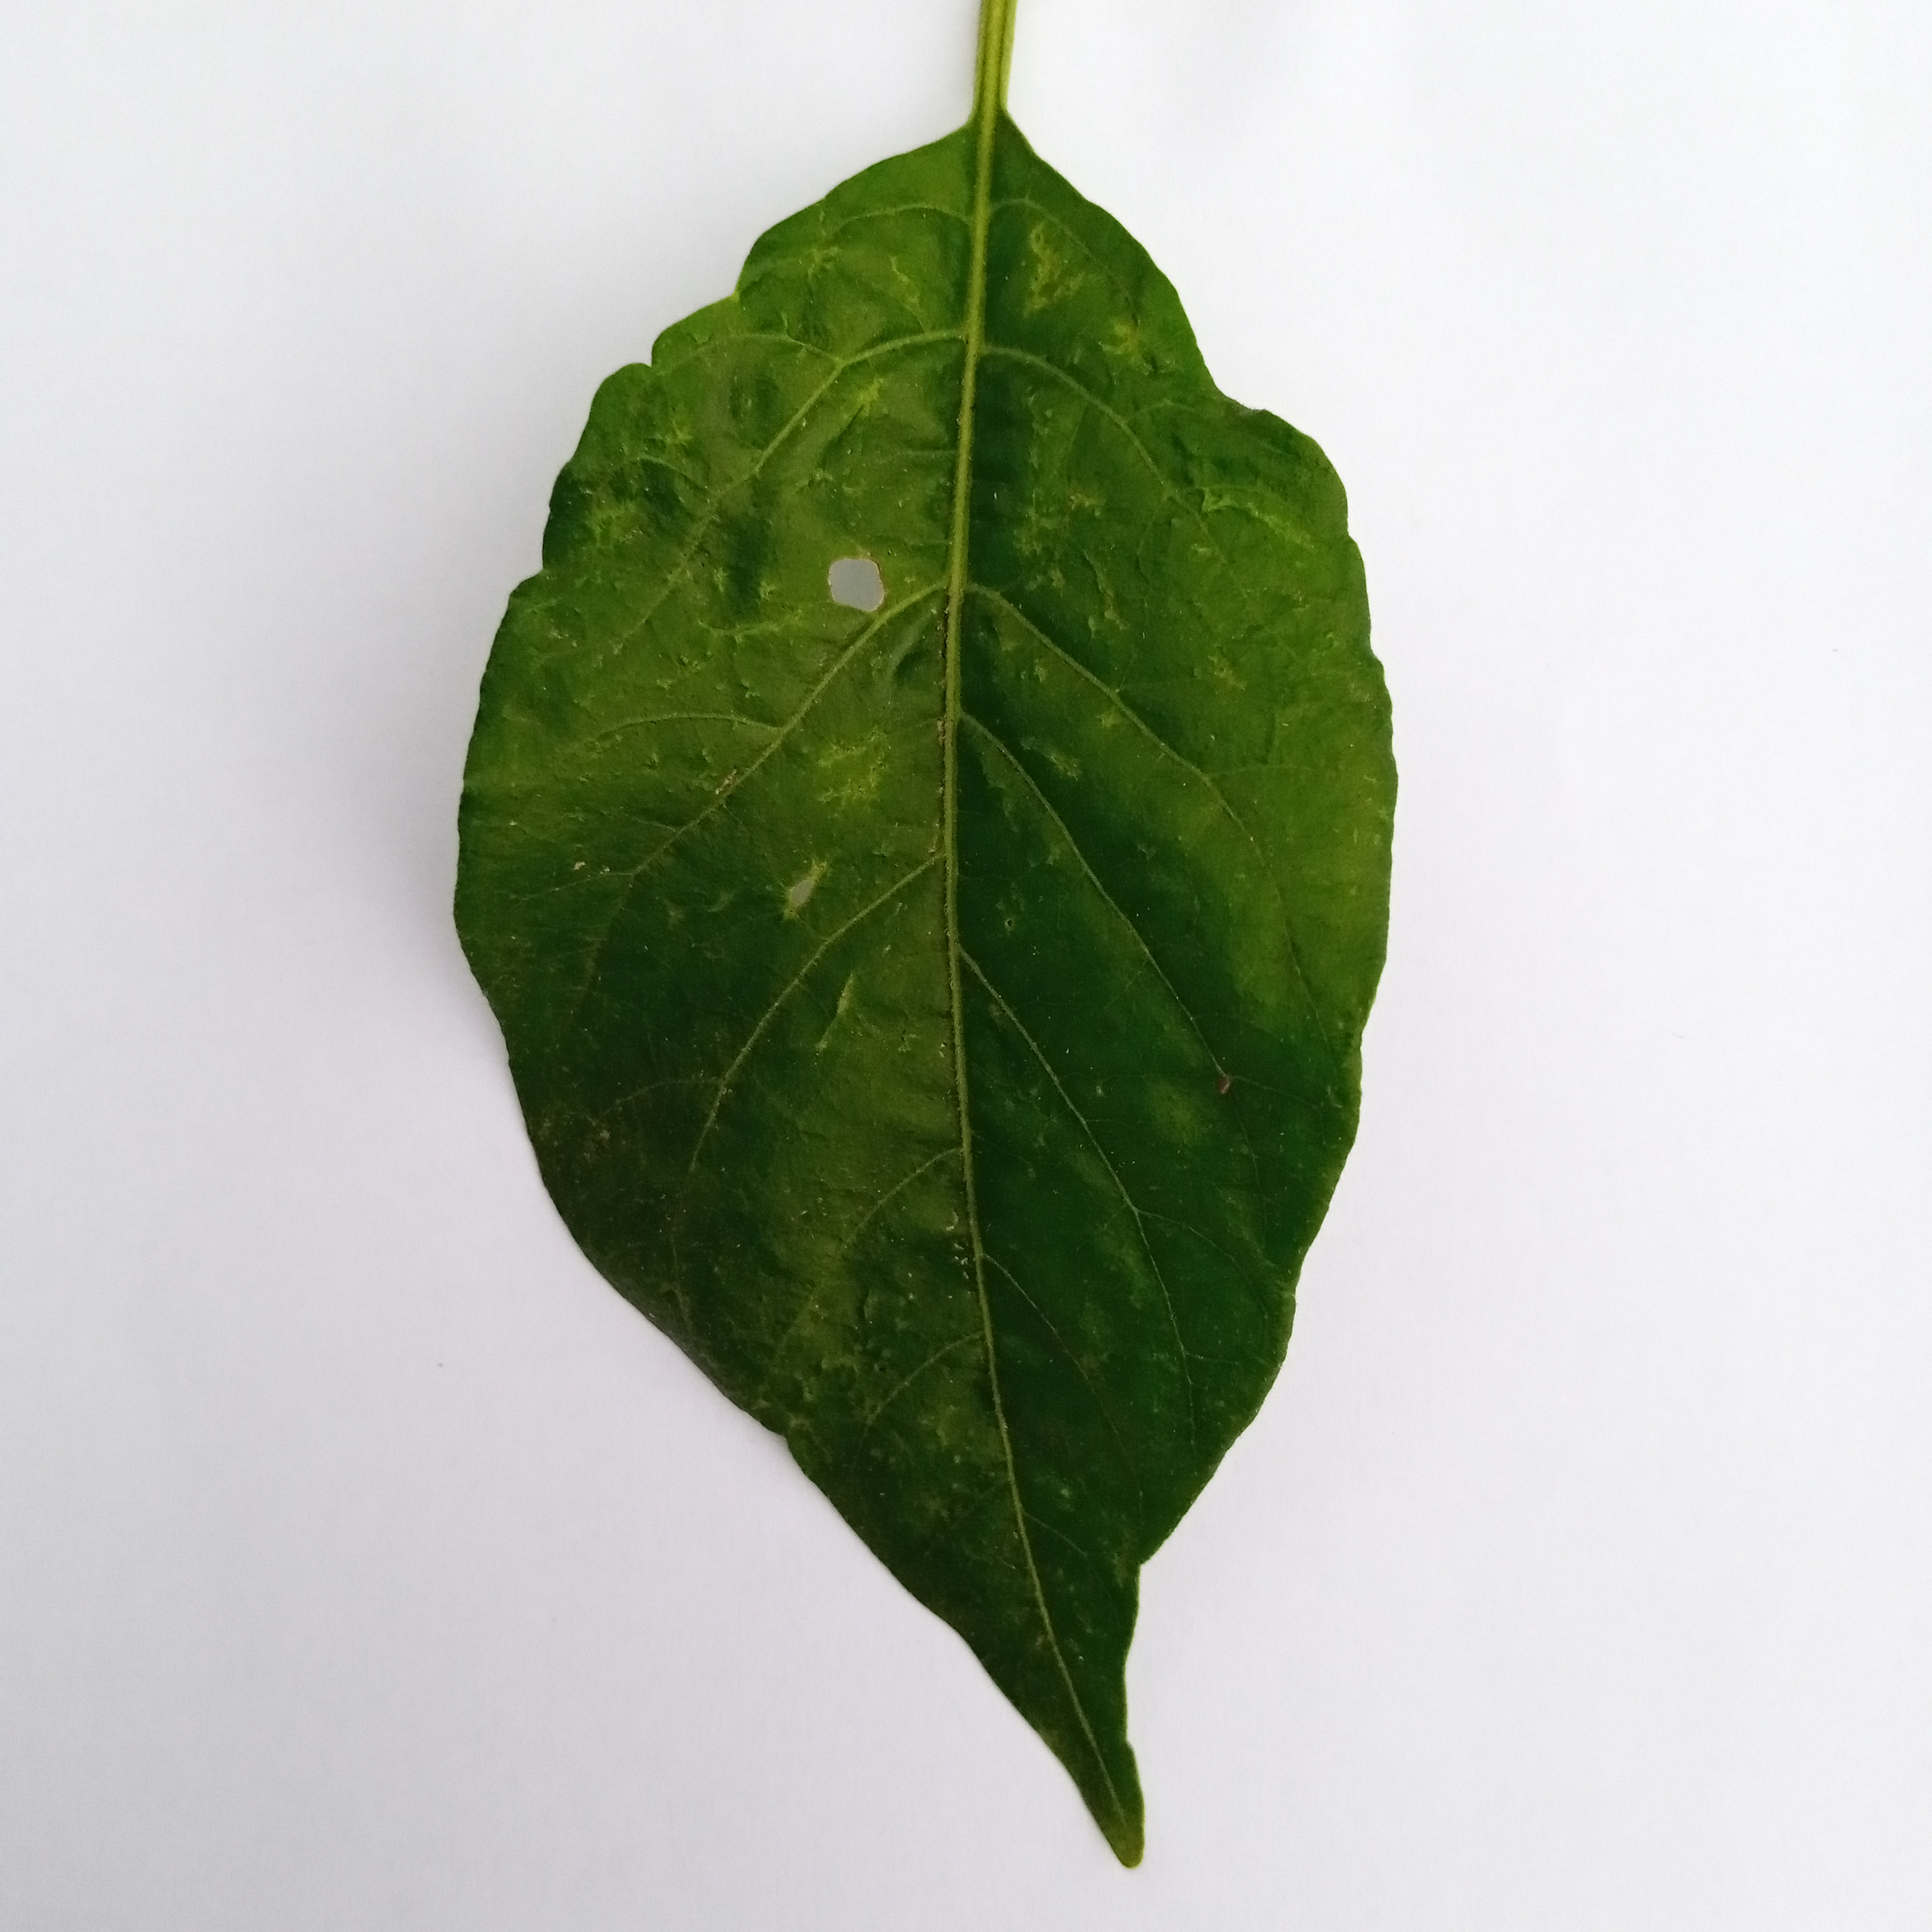Leaf: (354, 78, 1486, 1890)
